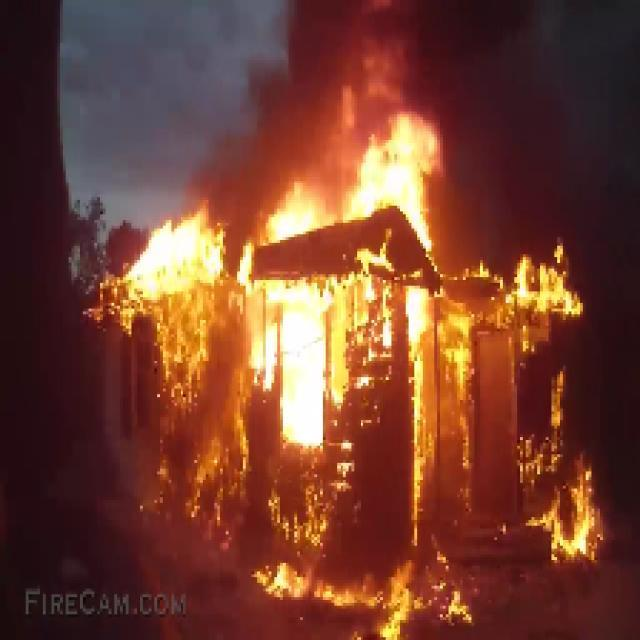Fire: (85, 117, 606, 563), (248, 560, 472, 640)
Smoke: (188, 2, 572, 268)
